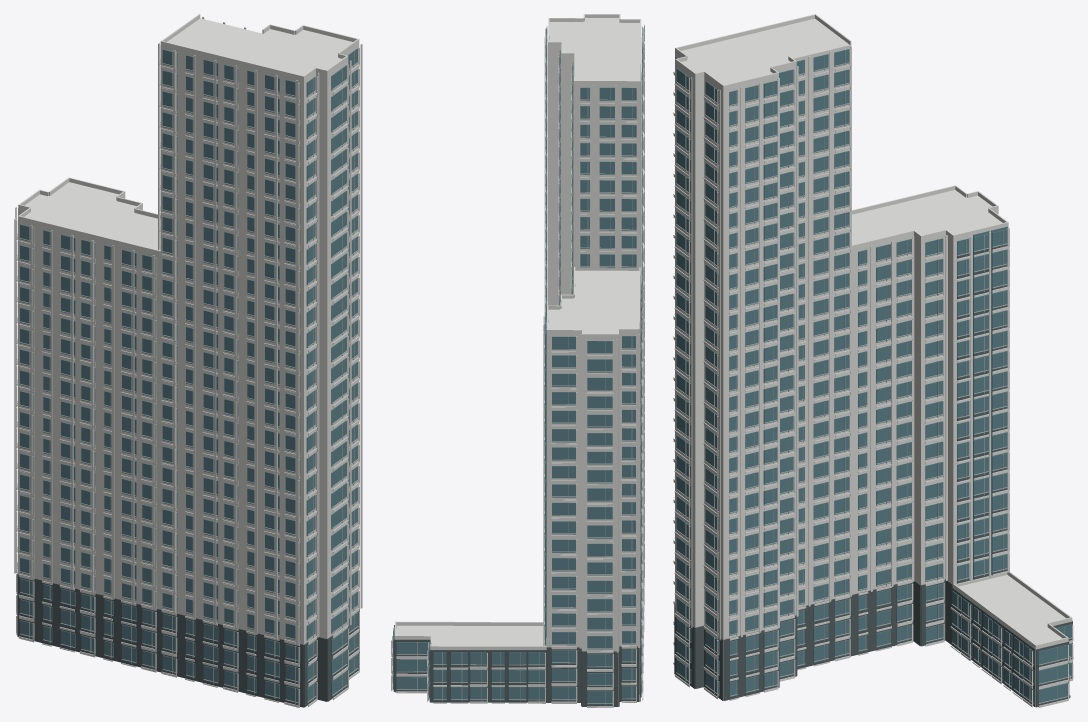
The model's file is bespoke-acro-riverpark-110.glb.
3 views of the same model, side by side, from view 1: azimuth 30°, elevation 25°; view 2: azimuth 150°, elevation 25°; view 3: azimuth 270°, elevation 25° (orthographic). The views are drawn at different scales.
Visible parts, largest first — view 1: 110_R00_body, 110_R00_glass, 110_R00_white, 110_R02_body, 110_R02_glass, 110_R02_white, 110_R00_frame, 110_R00_dark, 110_R02_frame, 110_R02_dark; view 2: 110_R02_glass, 110_R00_body, 110_R02_body, 110_R02_white, 110_R00_glass, 110_R00_white, 110_R01_glass, 110_R02_frame, 110_R01_dark, 110_R01_white, 110_R01_body, 110_R00_frame (+2 smaller); view 3: 110_R00_glass, 110_R00_body, 110_R00_white, 110_R02_glass, 110_R02_body, 110_R02_white, 110_R00_frame, 110_R02_dark, 110_R00_dark, 110_R02_frame, 110_R01_glass, 110_R01_body (+3 smaller).
Boxes of the visible parts, x1,y1,x2,y2 form: 110_R00_body: [160, 18, 359, 644]; 110_R00_glass: [162, 48, 357, 703]; 110_R00_white: [158, 14, 362, 707]; 110_R02_body: [18, 182, 160, 609]; 110_R02_glass: [20, 224, 156, 668]; 110_R02_white: [14, 177, 160, 672]; 110_R00_frame: [160, 51, 358, 703]; 110_R00_dark: [160, 608, 359, 707]; 110_R02_frame: [17, 226, 154, 668]; 110_R02_dark: [17, 562, 160, 671]; 110_R02_glass: [545, 275, 642, 704]; 110_R00_body: [548, 18, 641, 327]; 110_R02_body: [546, 270, 640, 706]; 110_R02_white: [543, 267, 643, 707]; 110_R00_glass: [546, 26, 642, 321]; 110_R00_white: [544, 14, 644, 631]; 110_R01_glass: [393, 628, 545, 700]; 110_R02_frame: [544, 276, 642, 705]; 110_R01_dark: [392, 625, 546, 702]; 110_R01_white: [391, 621, 546, 703]; 110_R01_body: [396, 625, 546, 645]; 110_R00_frame: [545, 27, 643, 317]; 110_R00_glass: [675, 49, 849, 696]; 110_R00_body: [675, 18, 851, 700]; 110_R00_white: [673, 14, 851, 700]; 110_R02_glass: [858, 226, 1007, 651]; 110_R02_body: [852, 190, 1008, 594]; 110_R02_white: [852, 185, 1009, 655]; 110_R00_frame: [674, 50, 849, 696]; 110_R02_dark: [852, 244, 1007, 655]; 110_R00_dark: [674, 596, 851, 700]; 110_R02_frame: [858, 231, 1007, 651]; 110_R01_glass: [952, 590, 1071, 704]; 110_R01_body: [959, 575, 1065, 706].
Bounding box in the file's own units: 41.71 × 105 × 61.99.
